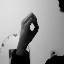o: (19, 11, 39, 42)
